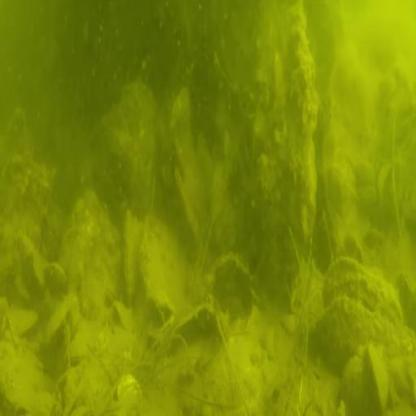Oyster-Closed: (304, 300, 416, 408), (321, 258, 401, 327), (211, 250, 255, 319)
Oyster-Open: (139, 216, 192, 317), (122, 203, 140, 316)
